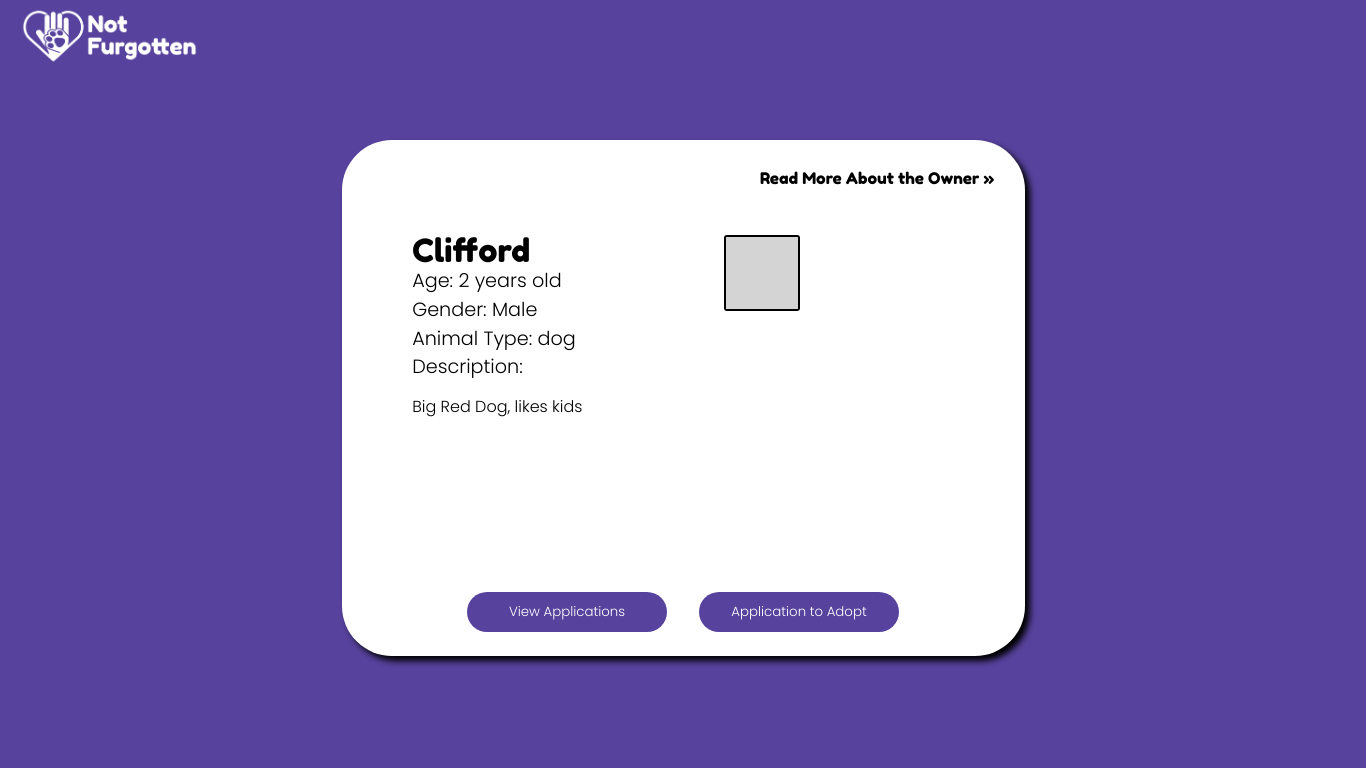
Test case: Single Pet Page › Upon button click, it should display the application modal for adopting the currently displayed pet
The width and height of the screenshot is (1366, 768).
Click the button "Application to Adopt" at [799, 612], box x1=699 y1=592 x2=899 y2=632
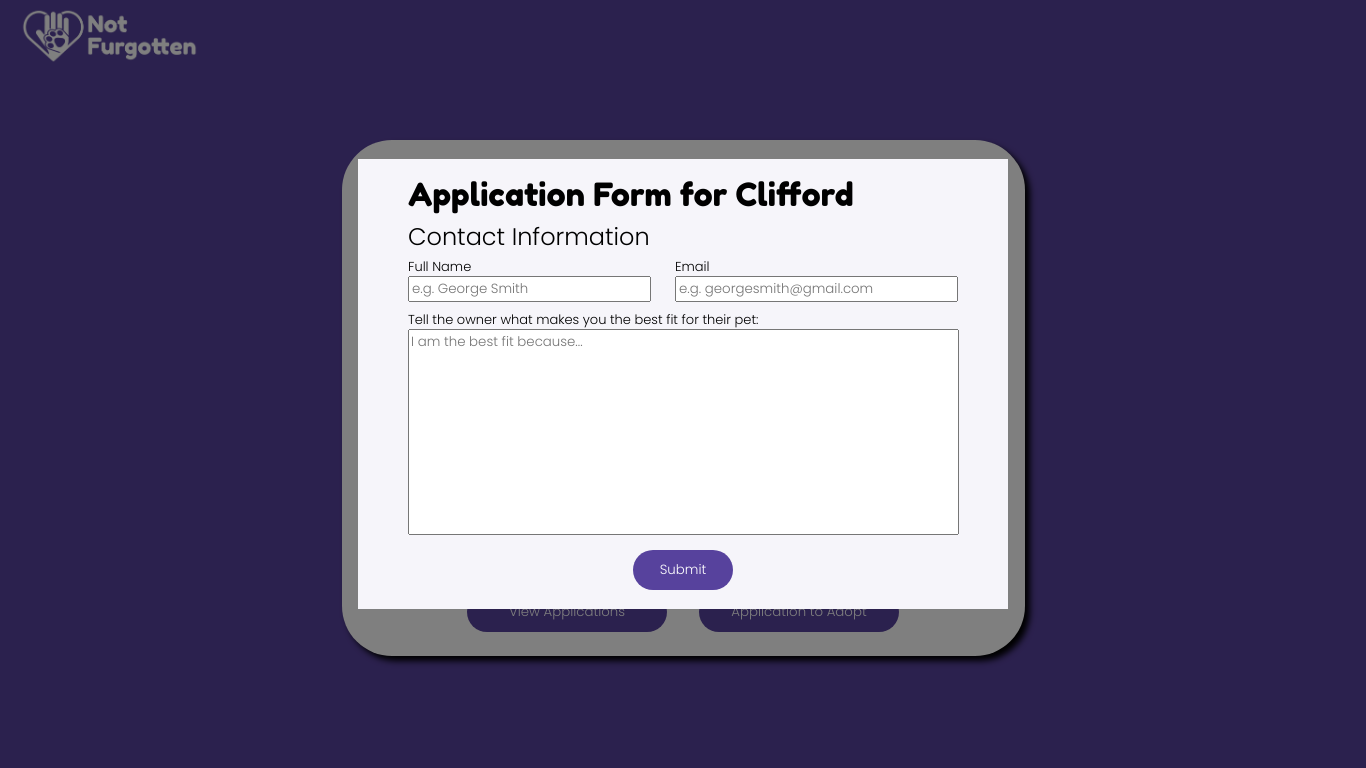
expect the element with class "modal" is shown: met
expect the heading with class "form-title" reads "Application Form for Clifford": met, box x1=408 y1=179 x2=854 y2=211
expect the heading "Contact Information" is shown: met, box x1=408 y1=225 x2=650 y2=249
